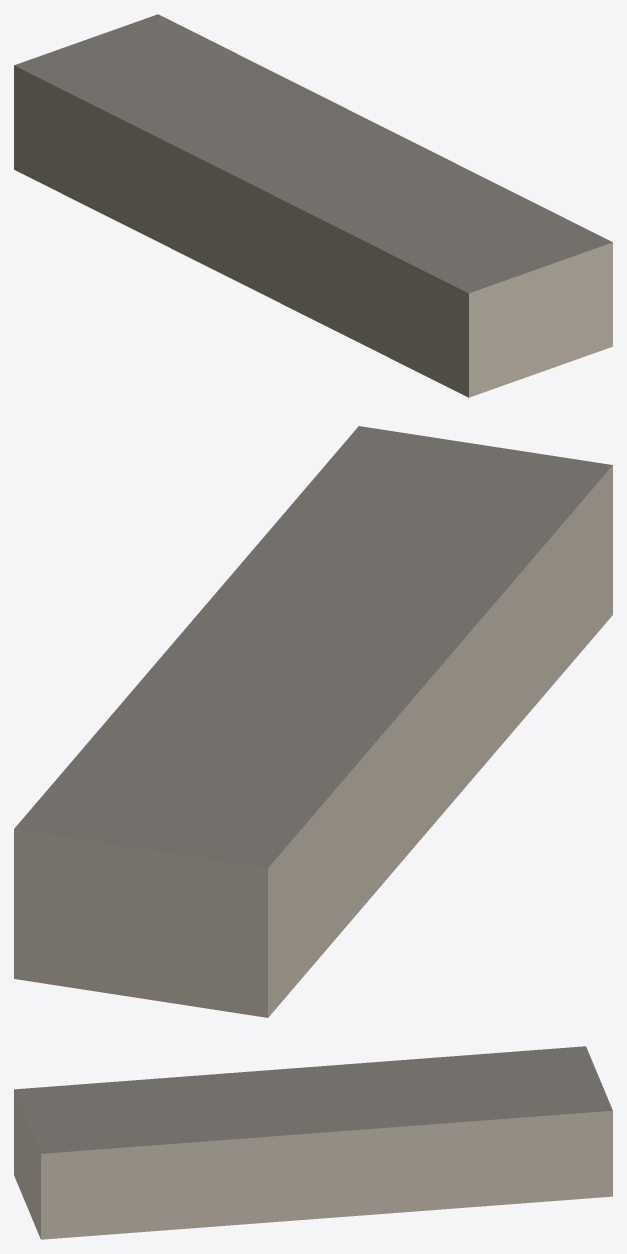
3 renders of one model, top to bottom at view 1: azimuth 30°, elevation 25°; view 2: azimuth 150°, elevation 25°; view 3: azimuth 270°, elevation 25°, orthographic. The views are drawn at different scales.
Visible parts, largest first — view 1: HP-w389701908; view 2: HP-w389701908; view 3: HP-w389701908.
Part boxes in pixels (bbox=[...]): HP-w389701908: bbox=[14, 14, 612, 397]; HP-w389701908: bbox=[14, 426, 612, 1017]; HP-w389701908: bbox=[14, 1046, 612, 1239].
Size of the model in its own units: 32.25 by 12 by 75.86.
